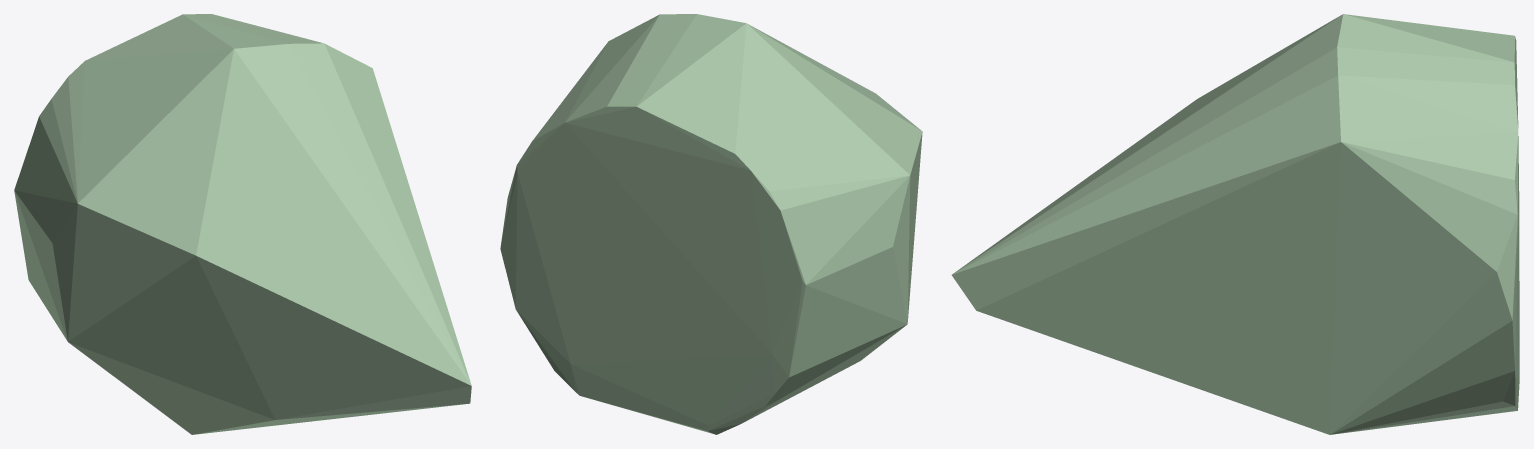
The model's file is food_prepared_cupcake_a01.glb.
The picture shows the model from 3 angles, left to right: view 1: azimuth 30°, elevation 25°; view 2: azimuth 150°, elevation 25°; view 3: azimuth 270°, elevation 25°; orthographic projection. The views are drawn at different scales.
Visible parts, largest first — view 1: geometry_0; view 2: geometry_0; view 3: geometry_0.
Part boxes in pixels (x1,y1,x2,y2): geometry_0: [14, 14, 471, 434]; geometry_0: [500, 14, 922, 434]; geometry_0: [951, 14, 1519, 434].
Bounding box in the file's own units: 0.3376 × 0.3357 × 0.4727.
